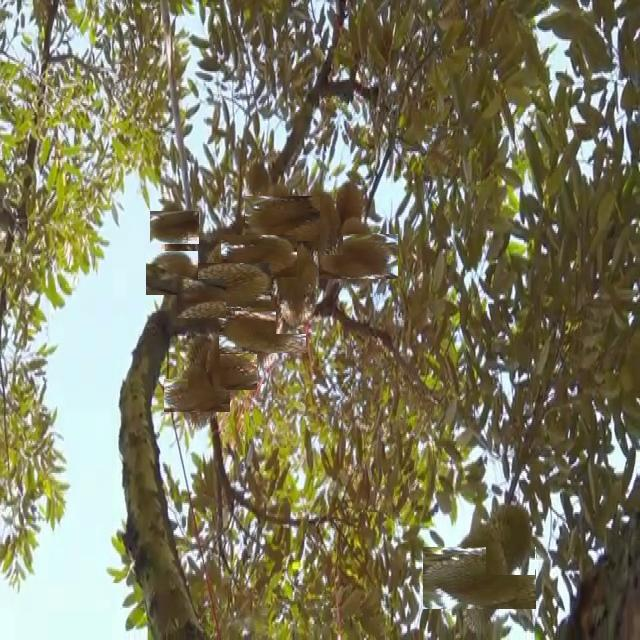durian: (436, 534, 524, 622), (193, 252, 261, 319), (230, 299, 295, 364), (276, 241, 321, 334), (327, 225, 390, 288), (486, 499, 535, 575), (252, 188, 313, 248), (230, 227, 289, 286), (301, 183, 343, 255), (200, 346, 250, 397), (172, 371, 222, 421), (148, 249, 197, 297), (180, 276, 224, 321), (334, 178, 368, 232), (188, 335, 220, 391), (154, 206, 195, 248), (244, 161, 271, 202)
